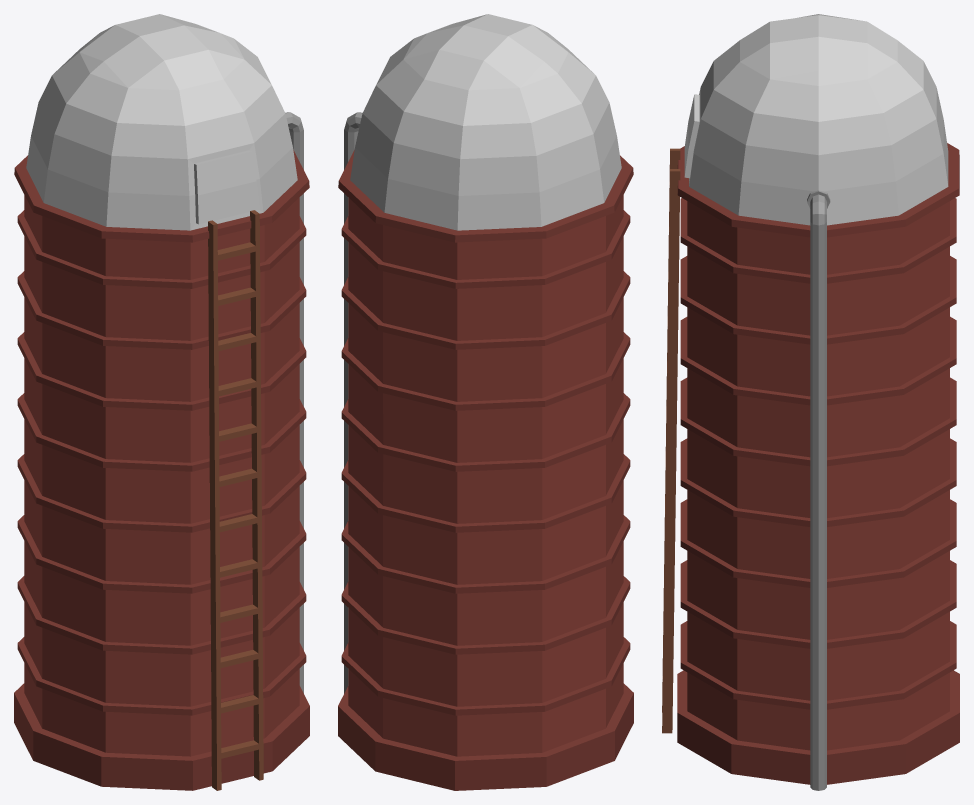
File: silo.glb
3 views of the same model, side by side, from view 1: azimuth 30°, elevation 25°; view 2: azimuth 150°, elevation 25°; view 3: azimuth 270°, elevation 25° (orthographic).
Parts seen in each view (by area): view 1: Silo; view 2: Silo; view 3: Silo.
Part boxes in pixels (<box>): Silo: <box>14,14,309,790</box>; Silo: <box>338,14,633,790</box>; Silo: <box>662,14,959,790</box>.
Bounding box in the file's own units: 367 × 907 × 351.
